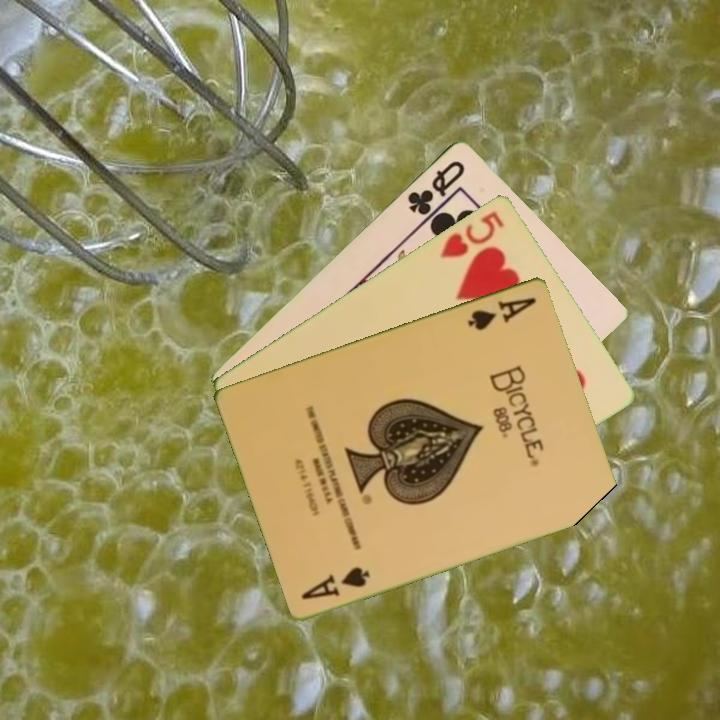5h: (436, 206, 507, 261)
As: (464, 293, 540, 333), (298, 562, 374, 602)
Qc: (403, 156, 468, 218)
